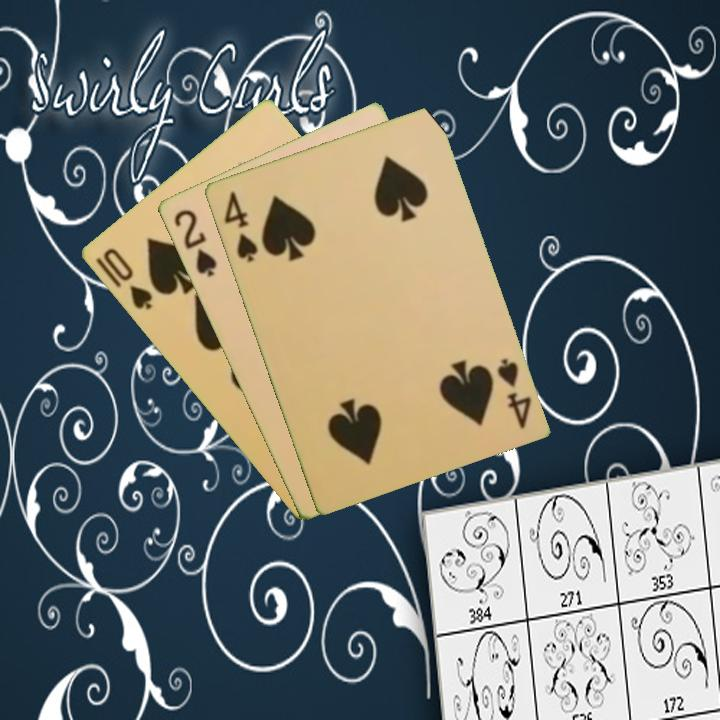10s: (91, 244, 155, 313)
2s: (170, 205, 219, 280)
4s: (220, 187, 261, 265), (493, 354, 534, 432)
